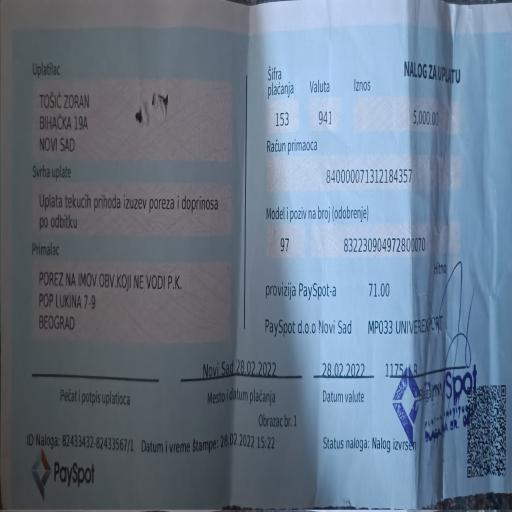svrha_uplate: (29, 161, 230, 240)
uplatnica: (264, 48, 473, 261)
